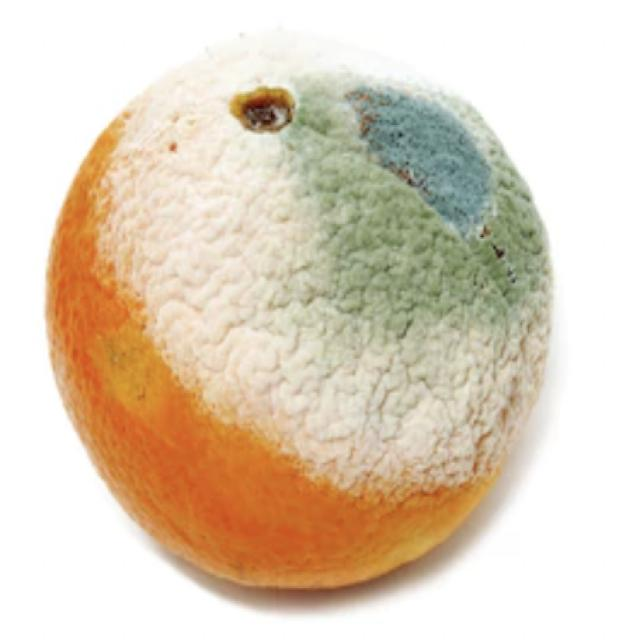rotten-orange: (44, 31, 552, 592)
